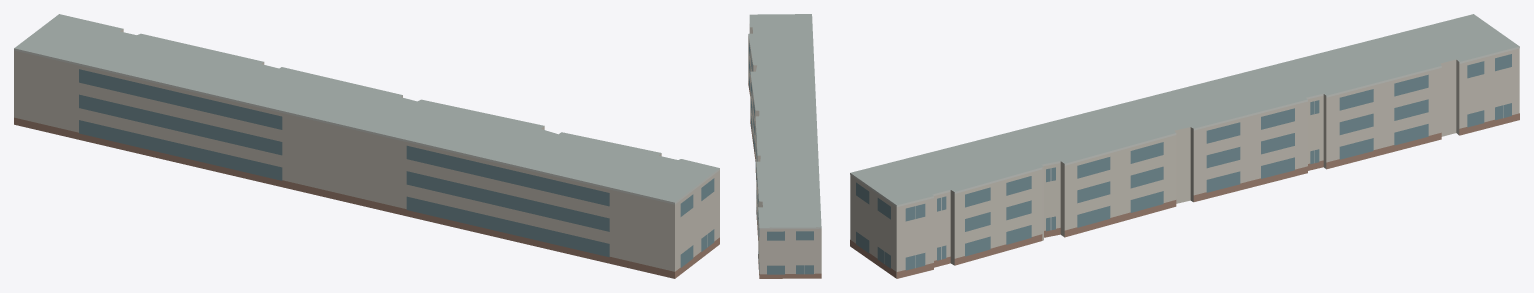
The model's file is survey-upis-32627498.glb.
3 renders of one model, left to right at view 1: azimuth 30°, elevation 25°; view 2: azimuth 150°, elevation 25°; view 3: azimuth 270°, elevation 25°, orthographic. The views are drawn at different scales.
Visible parts, largest first — view 1: survey-upis-32627498.tmp; view 2: survey-upis-32627498.tmp; view 3: survey-upis-32627498.tmp.
Boxes of the visible parts, x1,y1,x2,y2 form: survey-upis-32627498.tmp: (14,14,719,278); survey-upis-32627498.tmp: (748,14,821,278); survey-upis-32627498.tmp: (850,14,1519,278).
Bounding box in the file's own units: 51.02 × 9.15 × 75.44.
